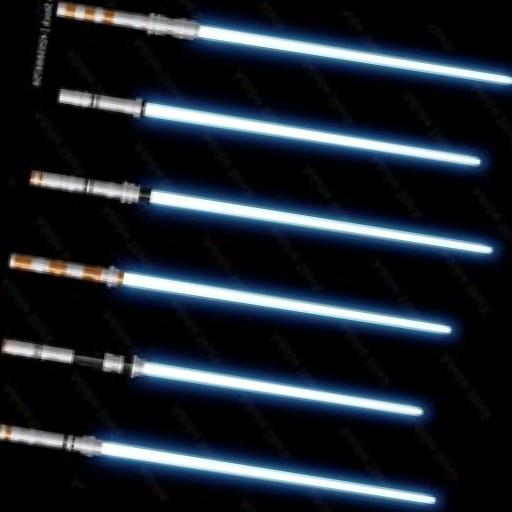lightsaber: (29, 168, 496, 258), (55, 0, 512, 89), (8, 249, 454, 339), (0, 419, 439, 510), (0, 334, 427, 424), (57, 84, 482, 172)
